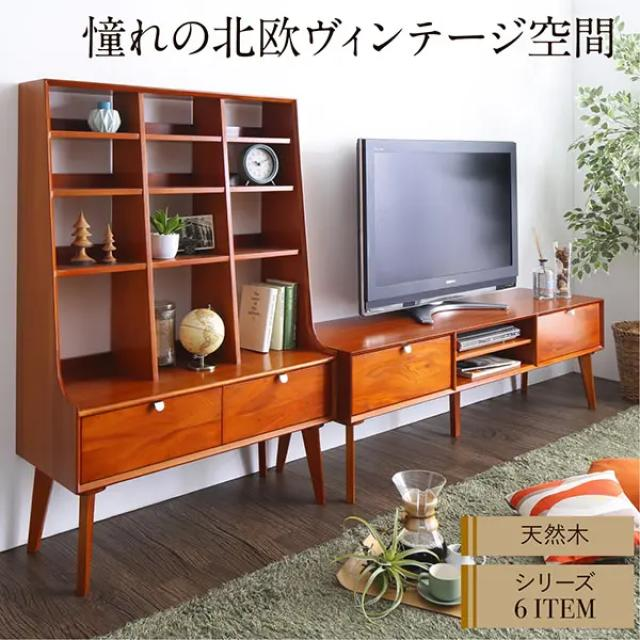vintage shelf: (1, 66, 329, 597), (325, 266, 611, 505)
